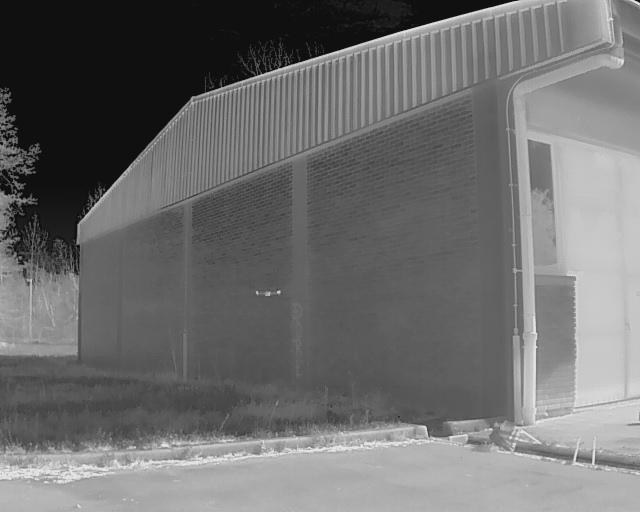drone: (249, 285, 286, 304)
